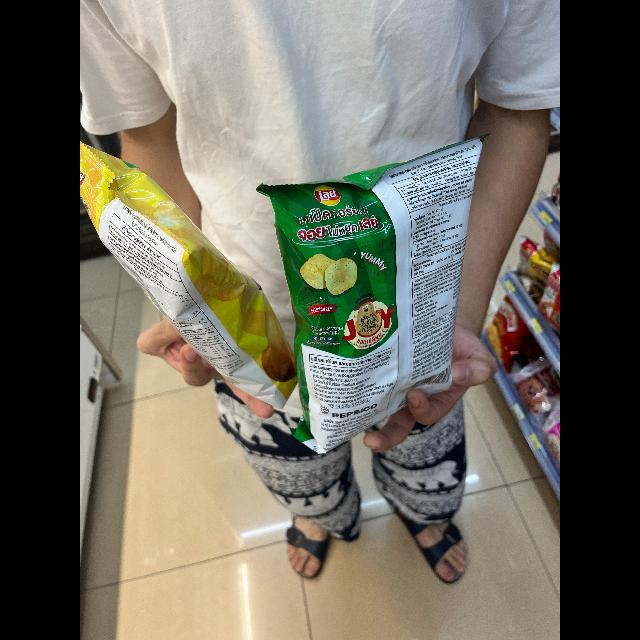snack_bag: (258, 123, 494, 465), (80, 138, 294, 416)
